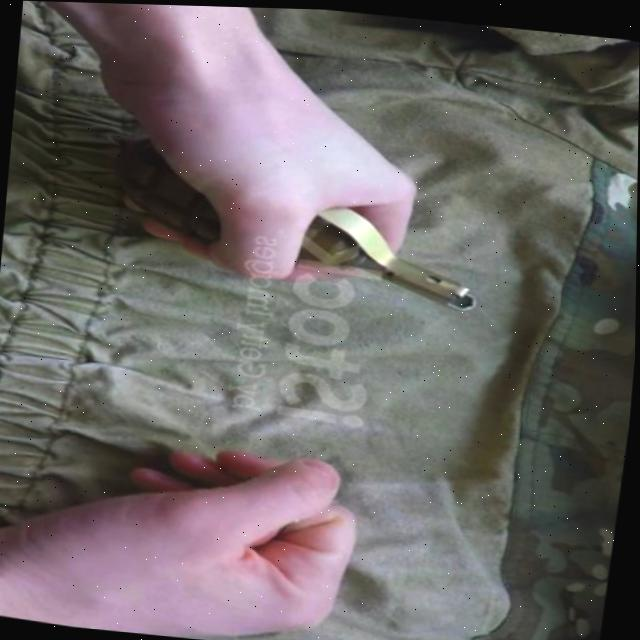grenade: (100, 130, 497, 309)
